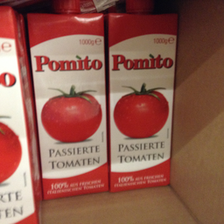tomato_sauce: (26, 10, 110, 198), (105, 11, 179, 192)
